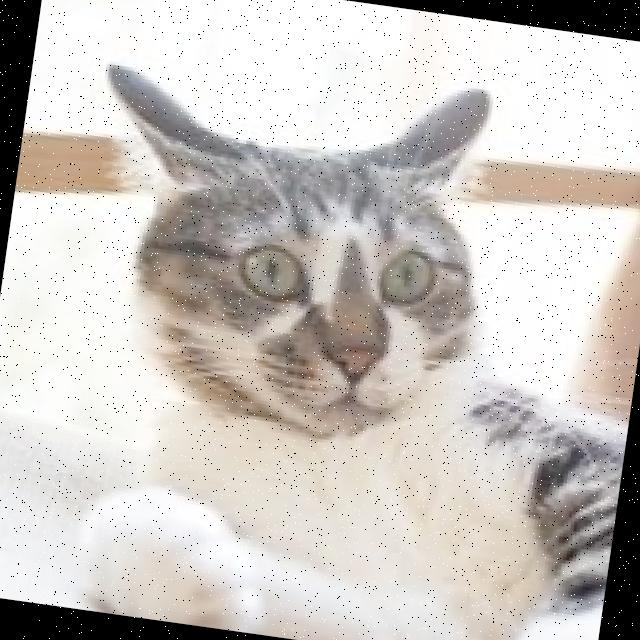Surprised: (179, 197, 462, 445)
